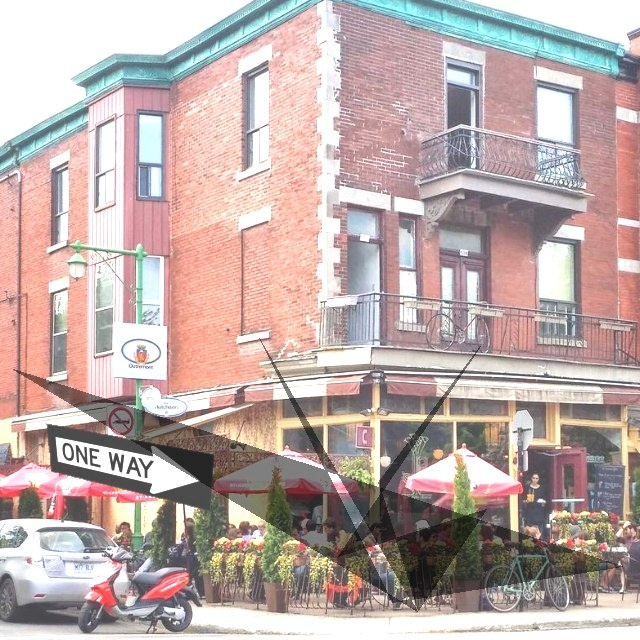ONE_WAY_ right: (46, 423, 214, 511)
